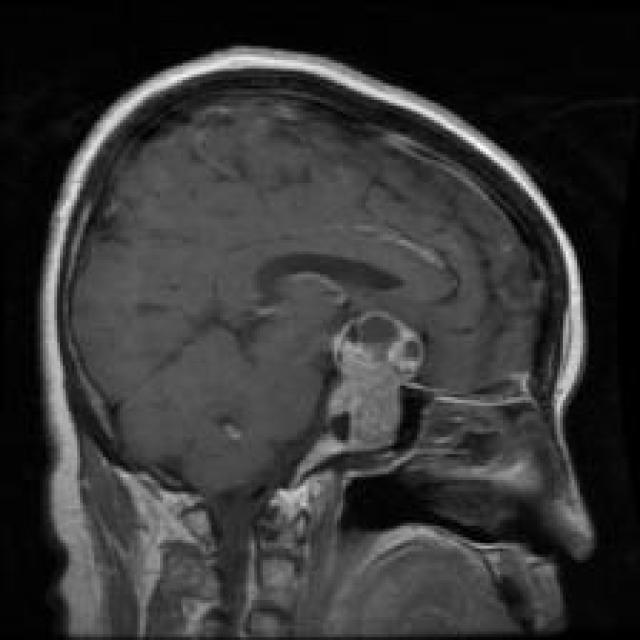pituitary_tumor: (308, 290, 436, 485)
